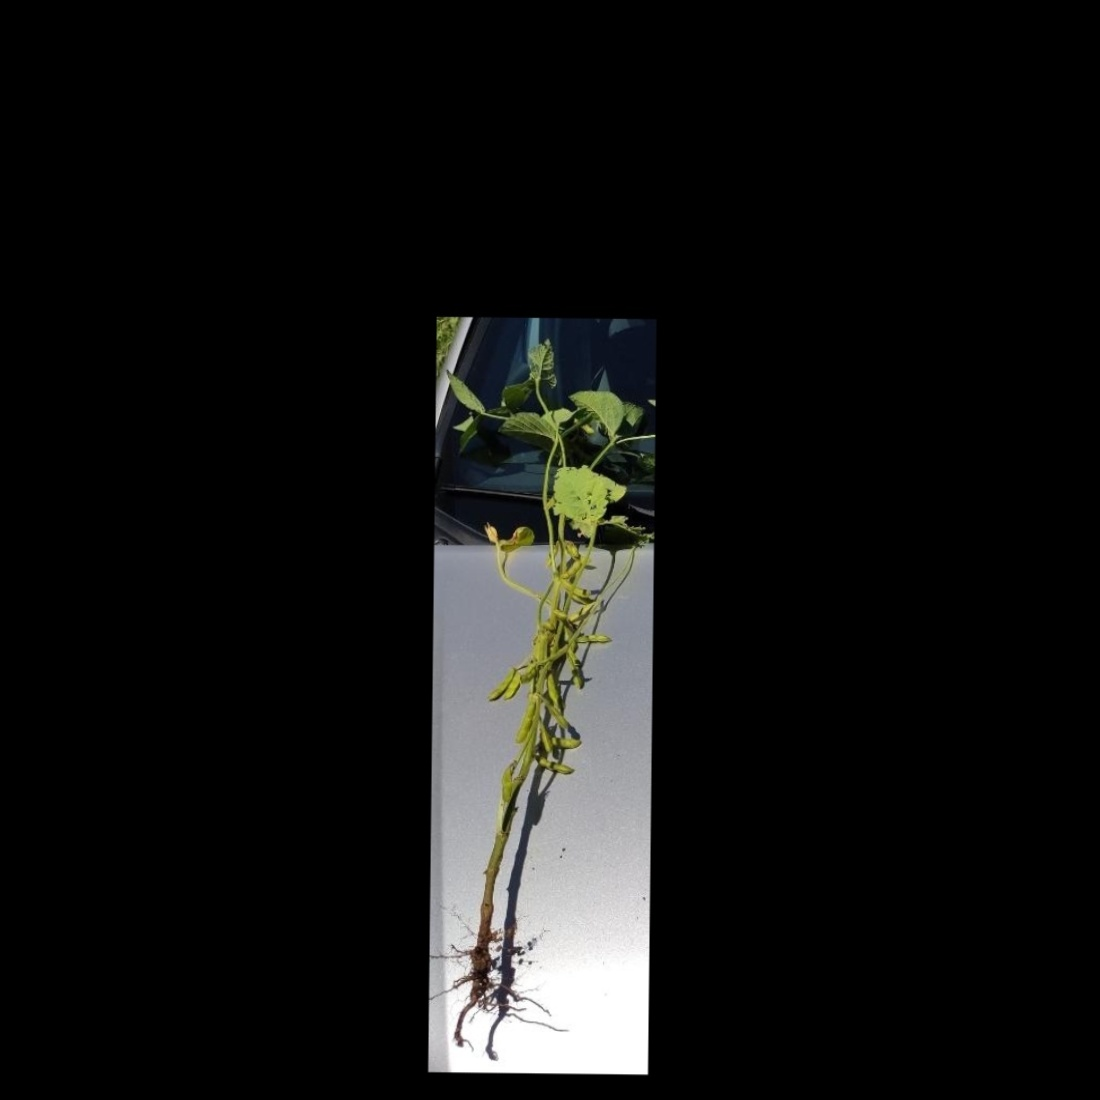pod: (516, 691, 540, 746), (486, 665, 516, 704), (532, 754, 580, 776), (568, 654, 584, 692), (569, 632, 615, 645)
soy: (443, 361, 624, 1027)
